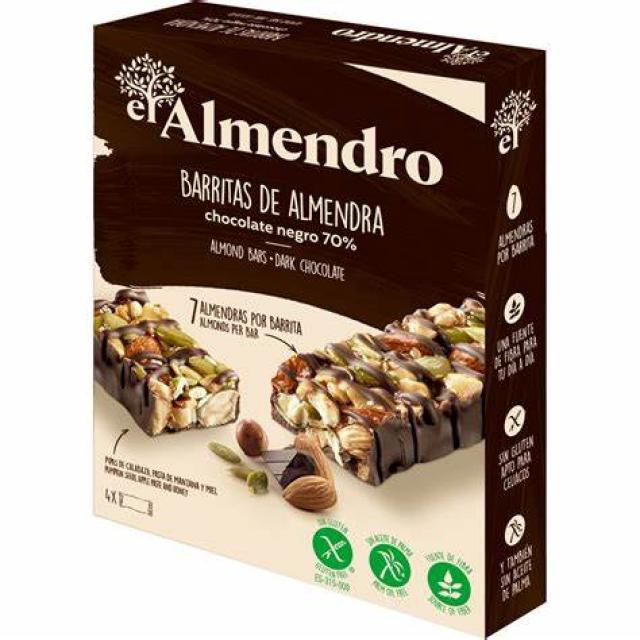Caja: (60, 0, 575, 629)
